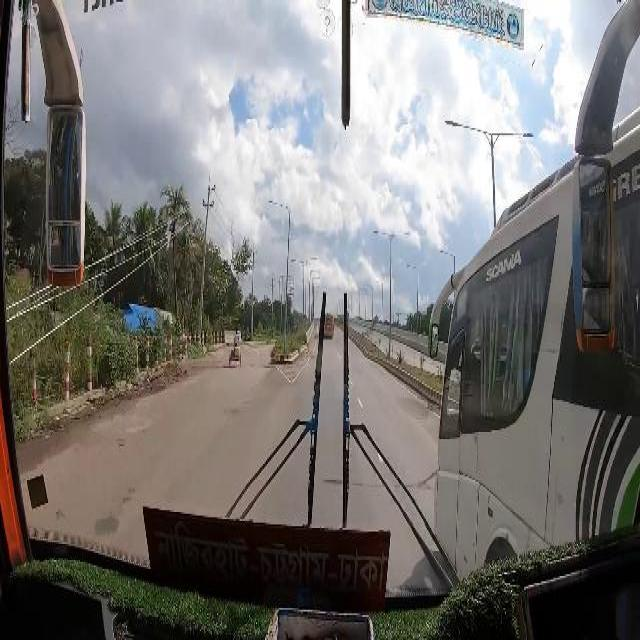Truck: (432, 116, 640, 574), (323, 312, 333, 335)
